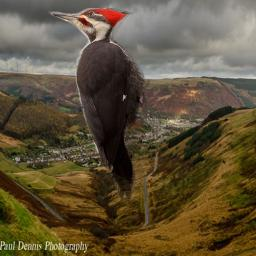Woodpecker: (48, 8, 150, 201)
